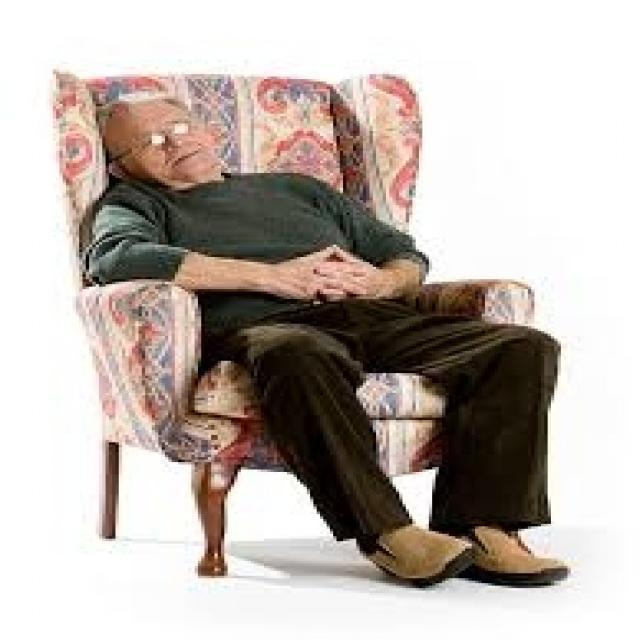sitting: (69, 81, 583, 590)
